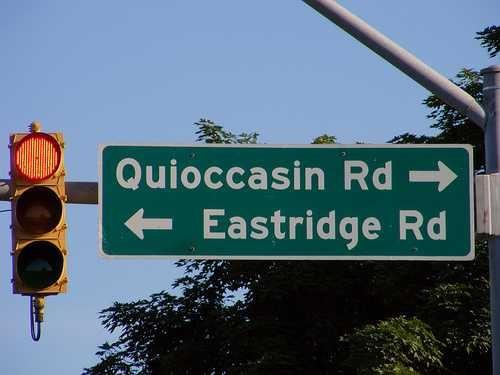red: (10, 132, 69, 297), (10, 134, 67, 184)
